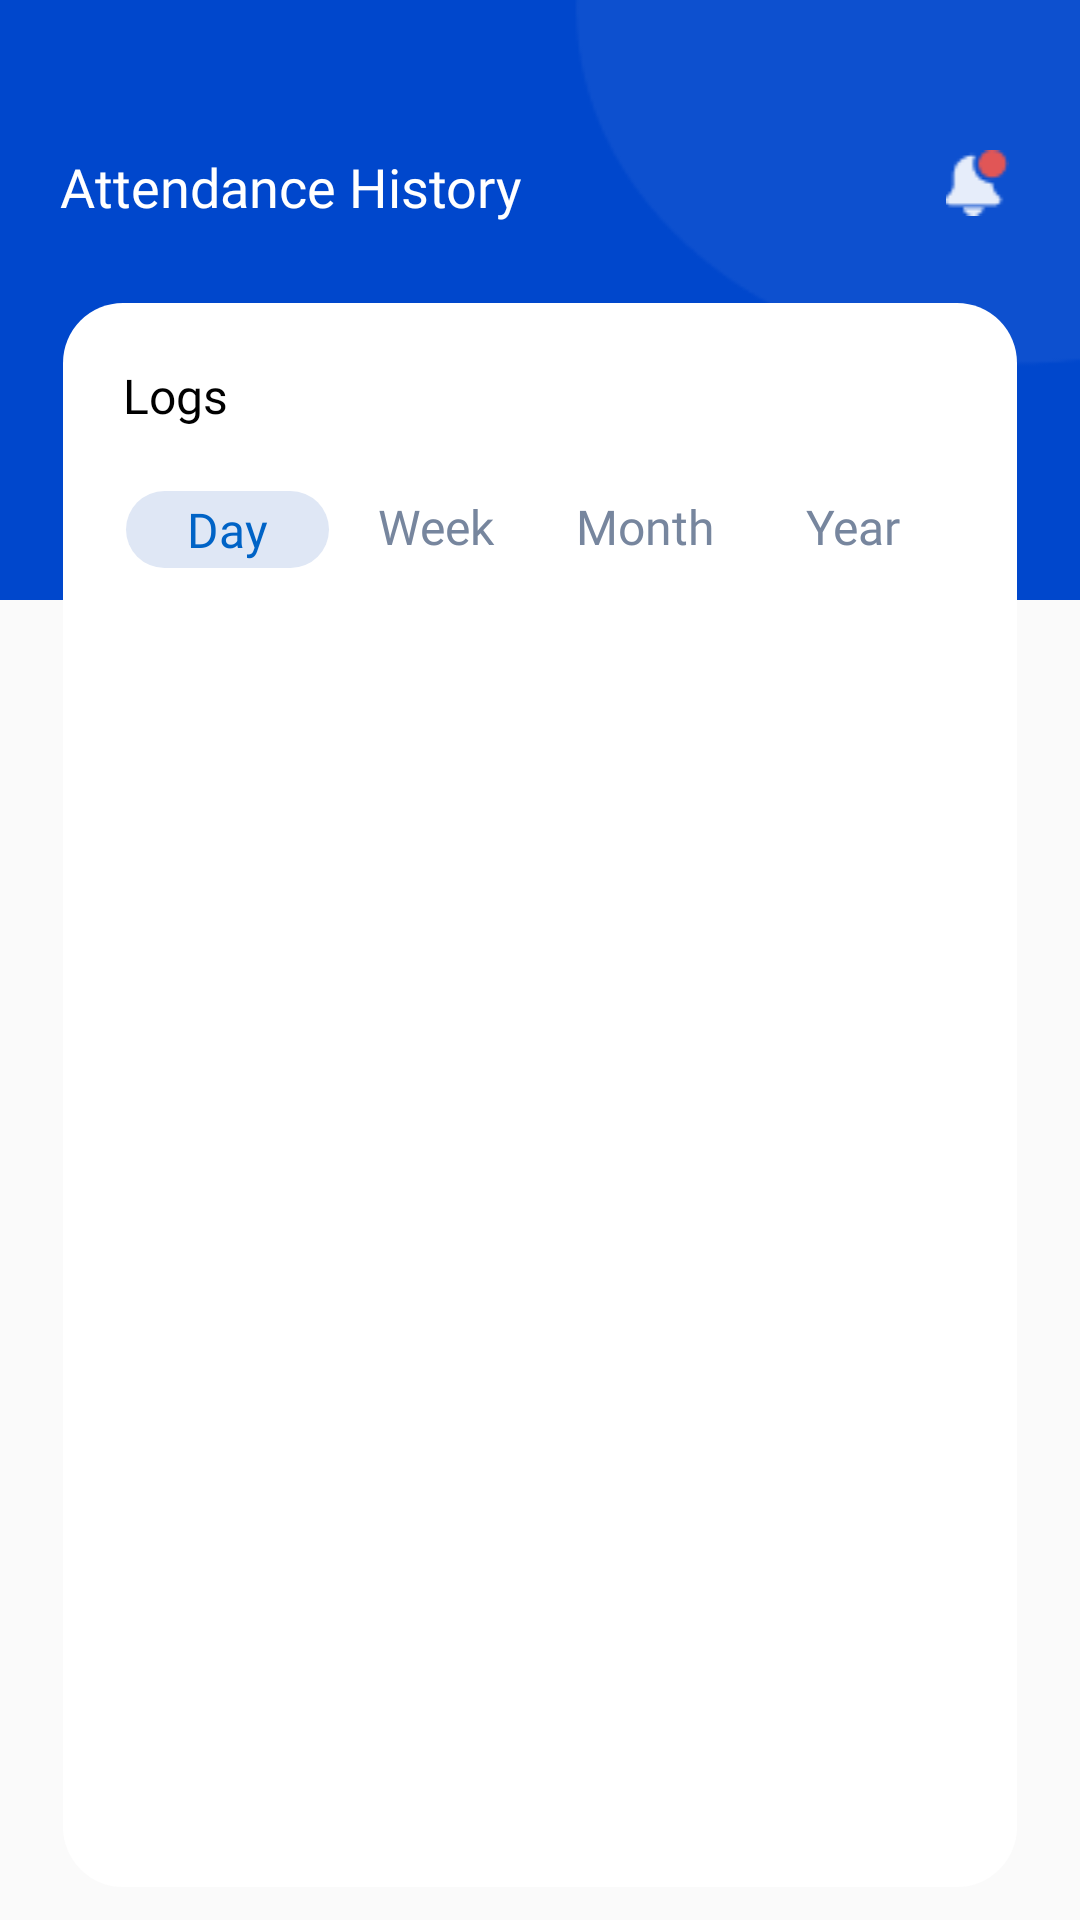

Icons on this 1080 x 1920 Android screen, each with its box as (x1, y1, x2, y2):
notification: (946, 150, 1009, 216)
